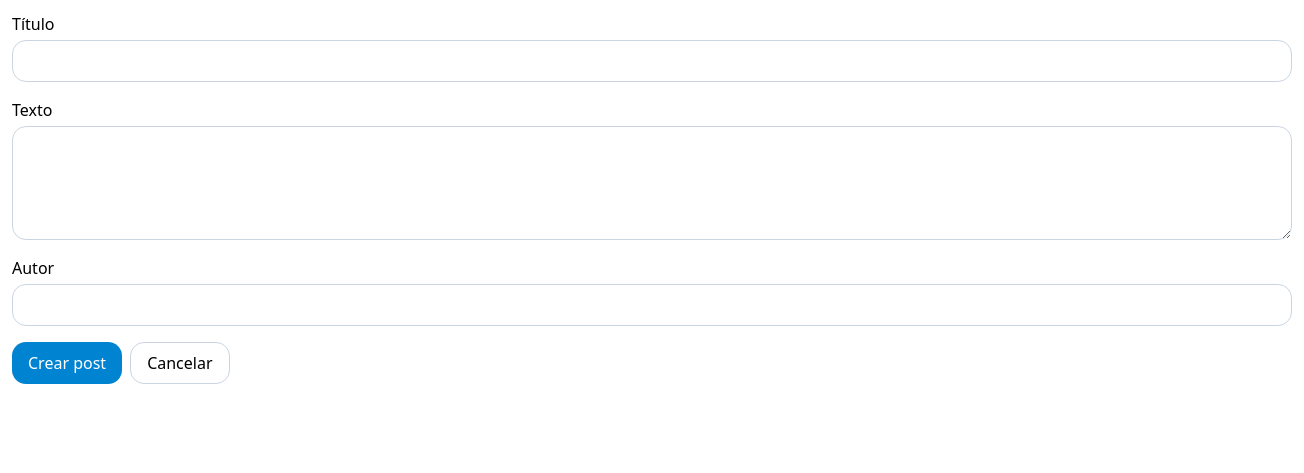
it: PostForm › validation › removes the message of a field as soon as it is corrected, without submitting again
The width and height of the screenshot is (1304, 473).
Click the button "Crear post" at (67, 363), box [12,342,122,384]
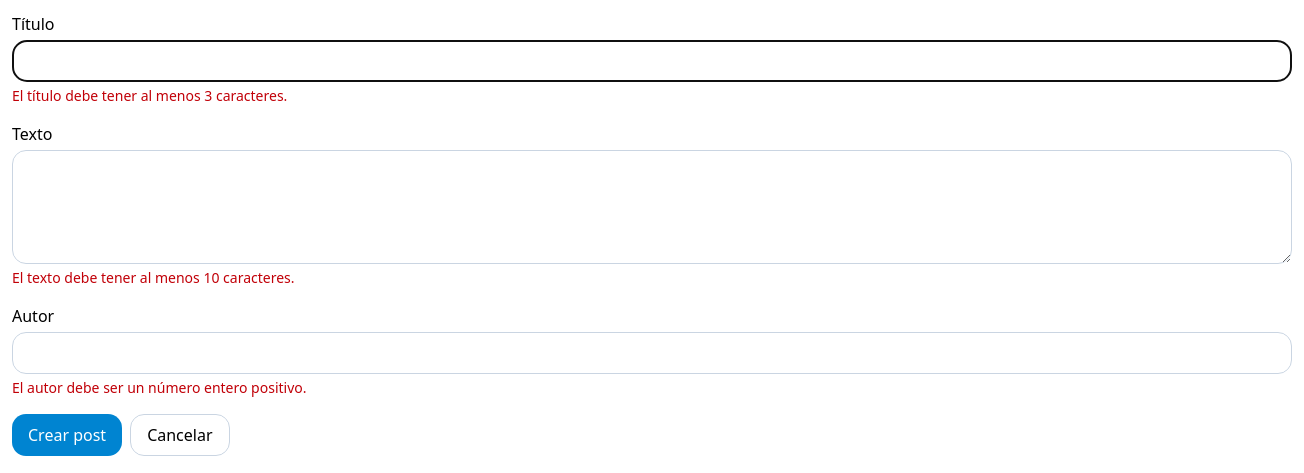
Result: the text "El título debe tener al menos 3 caracteres." is shown at [12,86,287,105]
Type "abc" into the field labelled "Título" at (652, 61), box [12,40,1292,82]
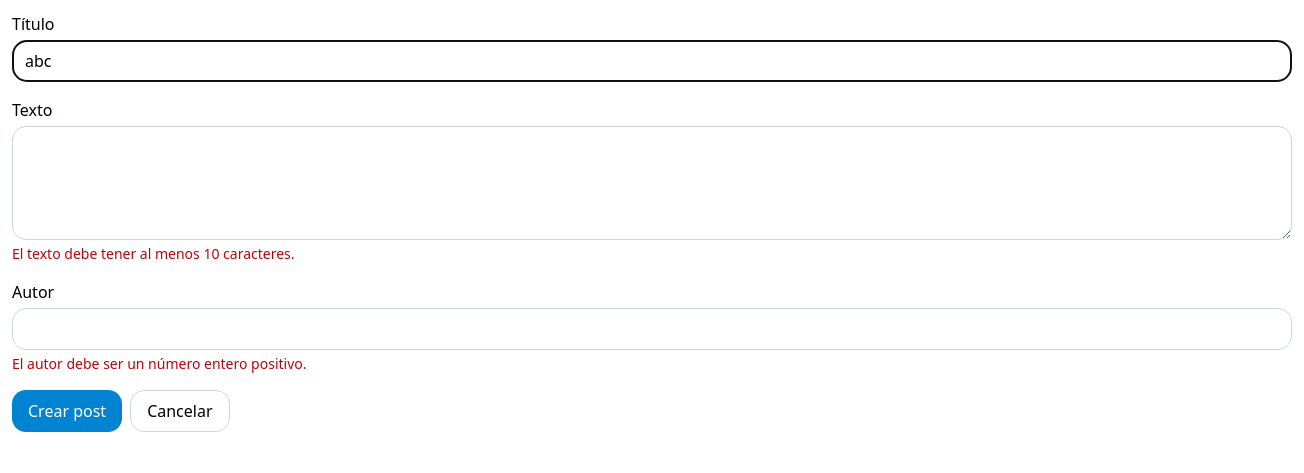
Result: the text "El texto debe tener al menos 10 caracteres." is shown at [12,244,294,263]
Result: the text "El autor debe ser un número entero positivo." is shown at [12,354,306,373]
Result: the text "El título debe tener al menos 3 caracteres." is gone
